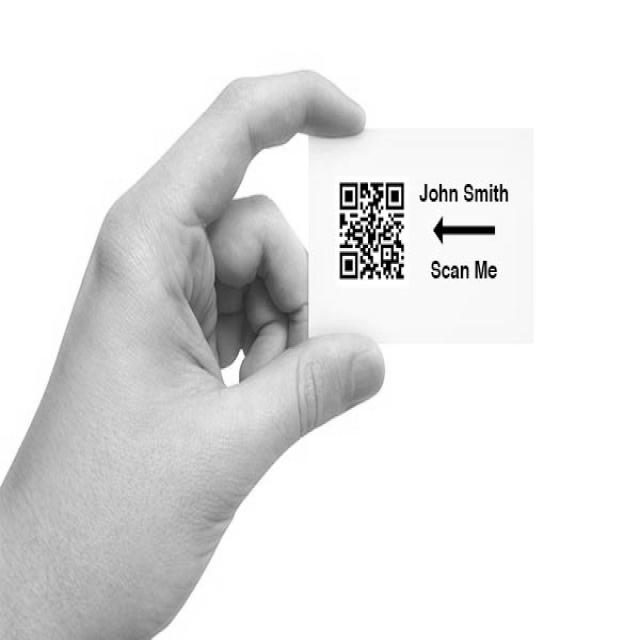QR-codes: (338, 178, 404, 282)
